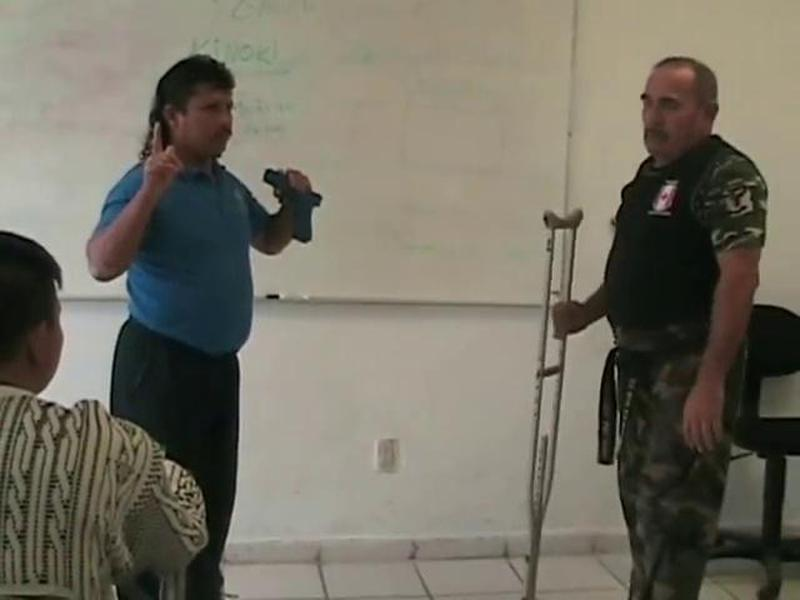Pistola: (246, 154, 342, 257)
